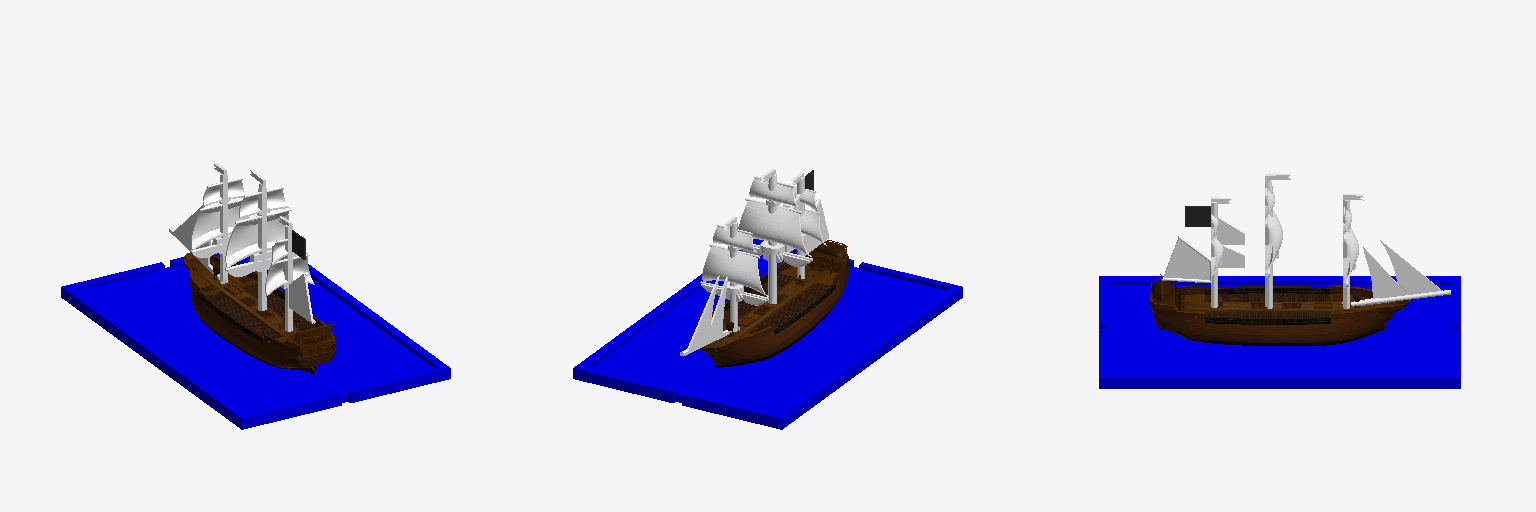
The picture shows the model from 3 angles: view 1: azimuth 30°, elevation 25°; view 2: azimuth 150°, elevation 25°; view 3: azimuth 270°, elevation 25°; orthographic projection.
Parts seen in each view (by area): view 1: merchant.obj; view 2: merchant.obj; view 3: merchant.obj.
Boxes of the visible parts, x1,y1,x2,y2 form: merchant.obj: [61, 163, 450, 429]; merchant.obj: [573, 169, 962, 429]; merchant.obj: [1099, 173, 1460, 388].
Bounding box in the file's own units: 4.28 × 3.23 × 6.43.
Materials: 4 (1 with a texture image).